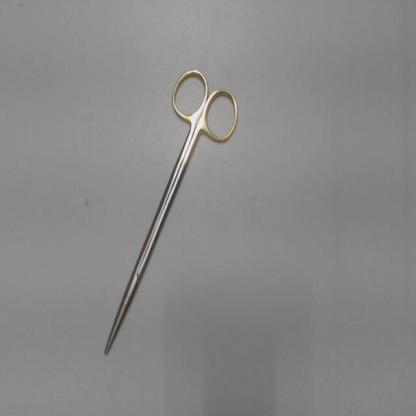7 Metzenbaum Scissors: (103, 63, 243, 359)
